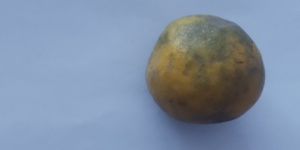BAD: (145, 12, 269, 127)
